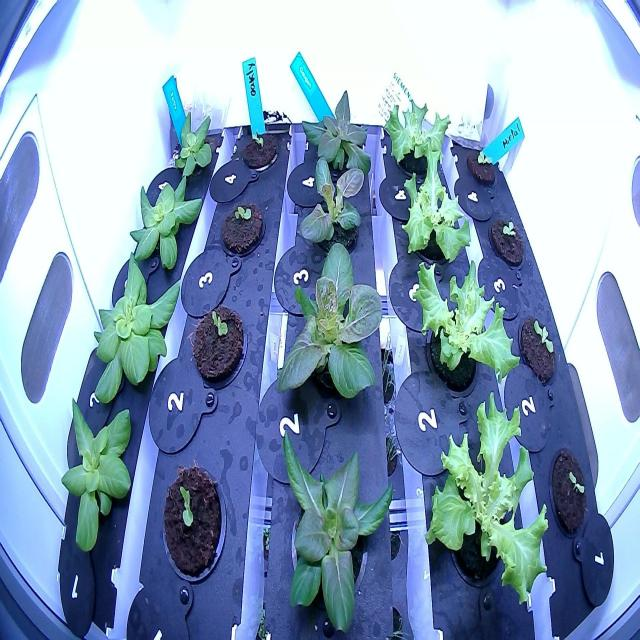germination: (157, 452, 228, 590), (188, 296, 252, 396), (539, 437, 593, 545), (511, 307, 563, 393), (219, 191, 266, 268), (483, 208, 528, 272), (238, 120, 280, 180), (464, 136, 502, 193)
young: (270, 423, 399, 639), (272, 225, 394, 426), (79, 248, 185, 412), (53, 390, 144, 563), (290, 83, 379, 197), (121, 168, 204, 290), (289, 146, 376, 261), (165, 98, 222, 187)
